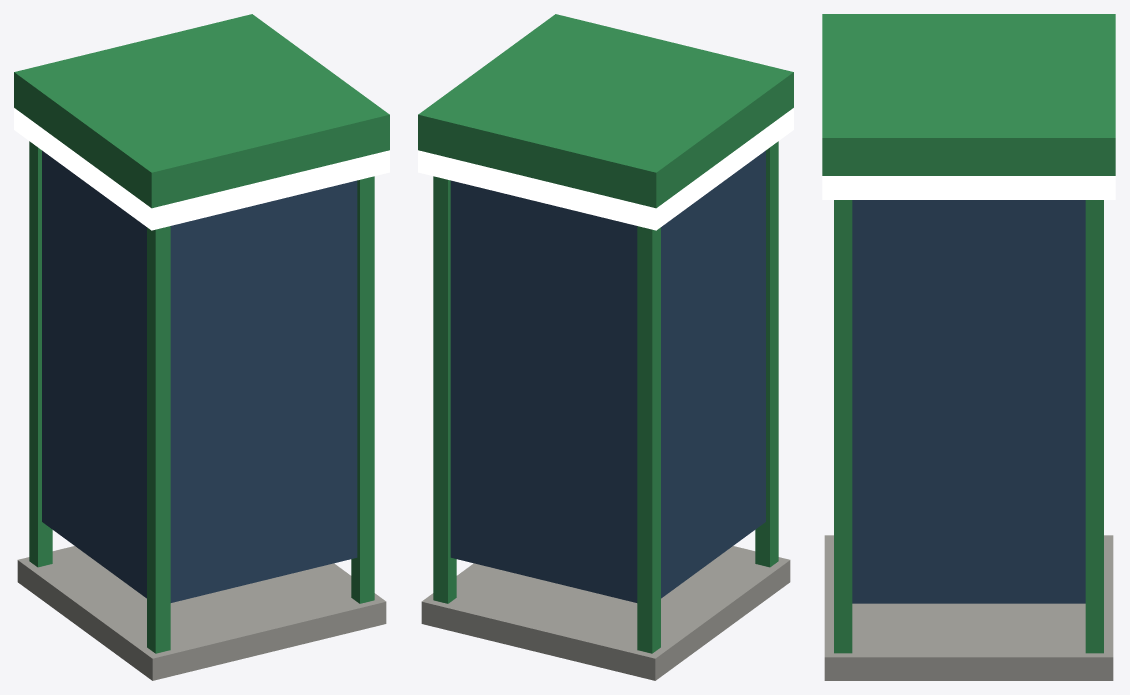
The model's file is telefonkiosk.glb.
The picture shows the model from 3 angles, left to right: view 1: azimuth 30°, elevation 25°; view 2: azimuth 150°, elevation 25°; view 3: azimuth 270°, elevation 25°; orthographic projection. The views are drawn at different scales.
Visible parts, largest first — view 1: telefonkiosk; view 2: telefonkiosk; view 3: telefonkiosk.
Part boxes in pixels (bbox=[...]): telefonkiosk: bbox=[14, 14, 389, 680]; telefonkiosk: bbox=[418, 14, 793, 680]; telefonkiosk: bbox=[822, 14, 1115, 680].
Size of the model in its own units: 1.12 by 2.29 by 1.12.
